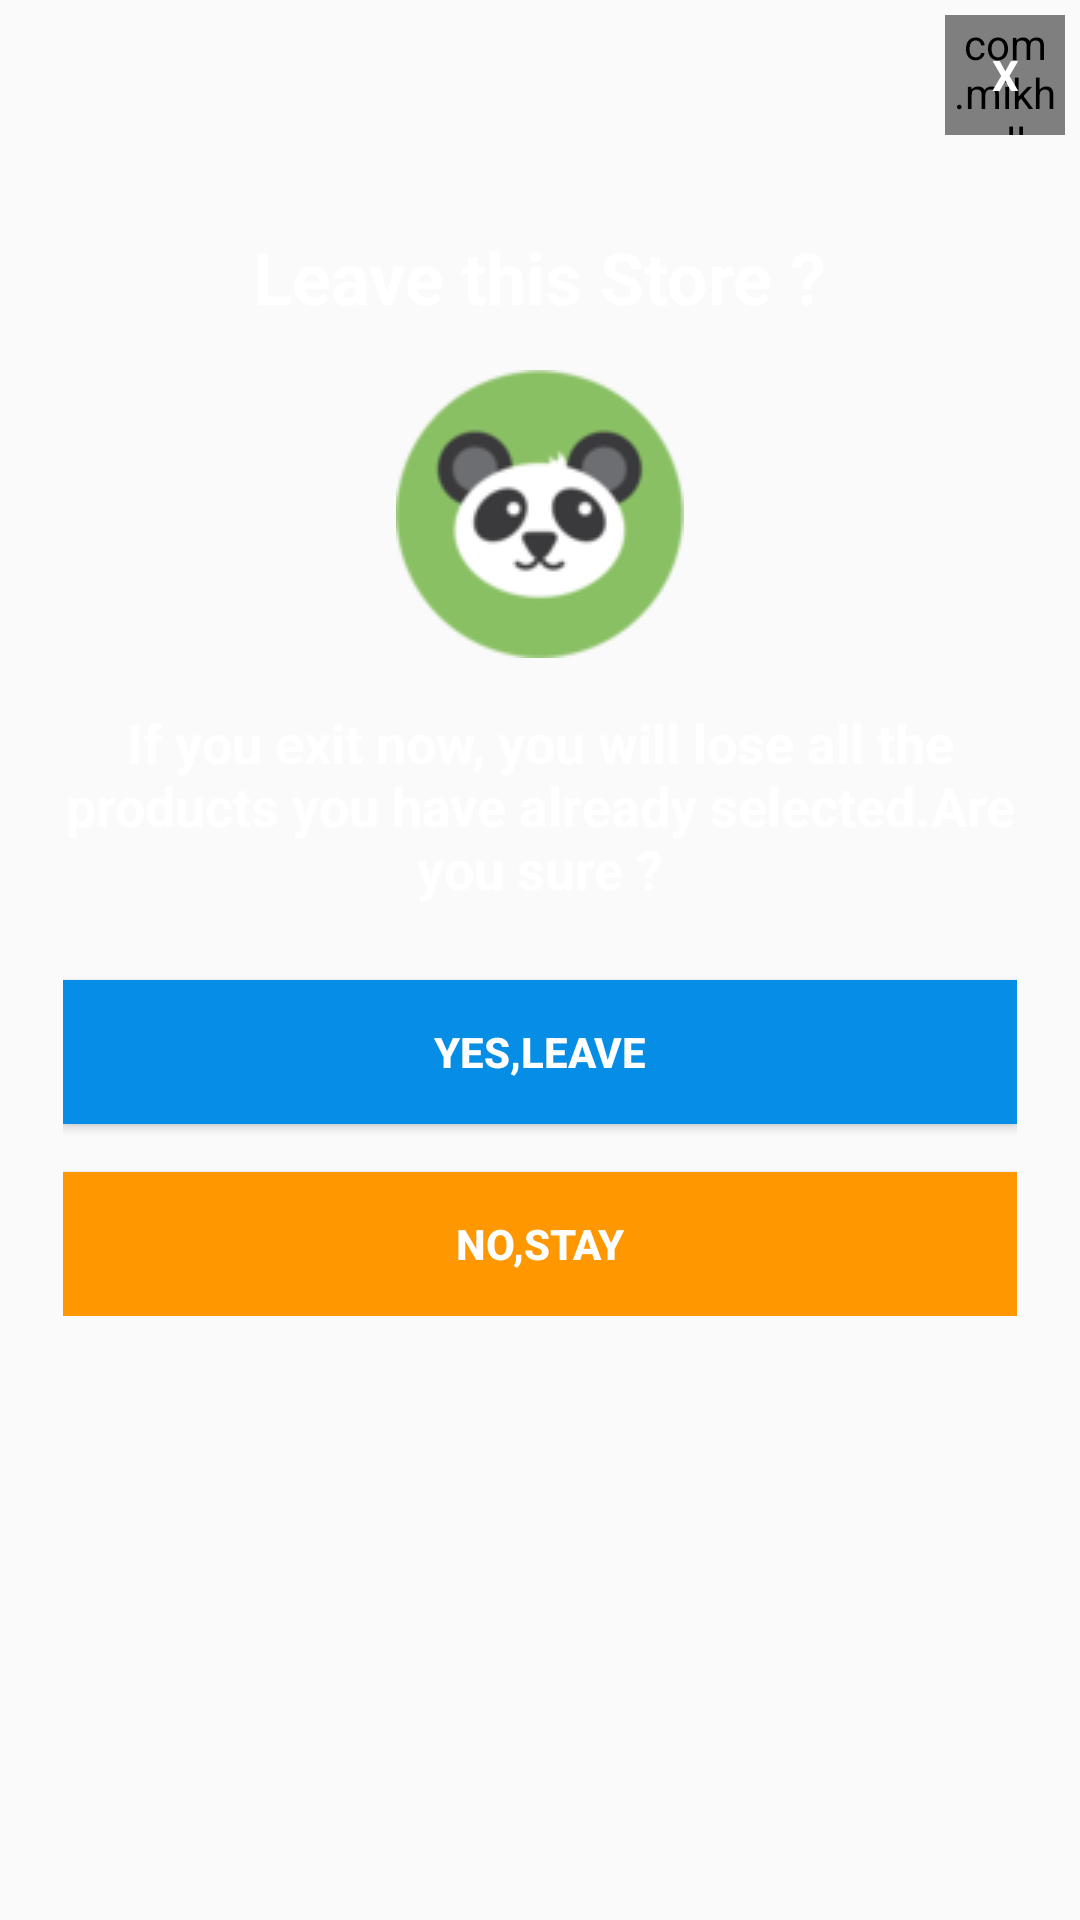

Named icons in this screenshot (1080×1920) and their centers, (x,y):
panda stay: (540,514)
